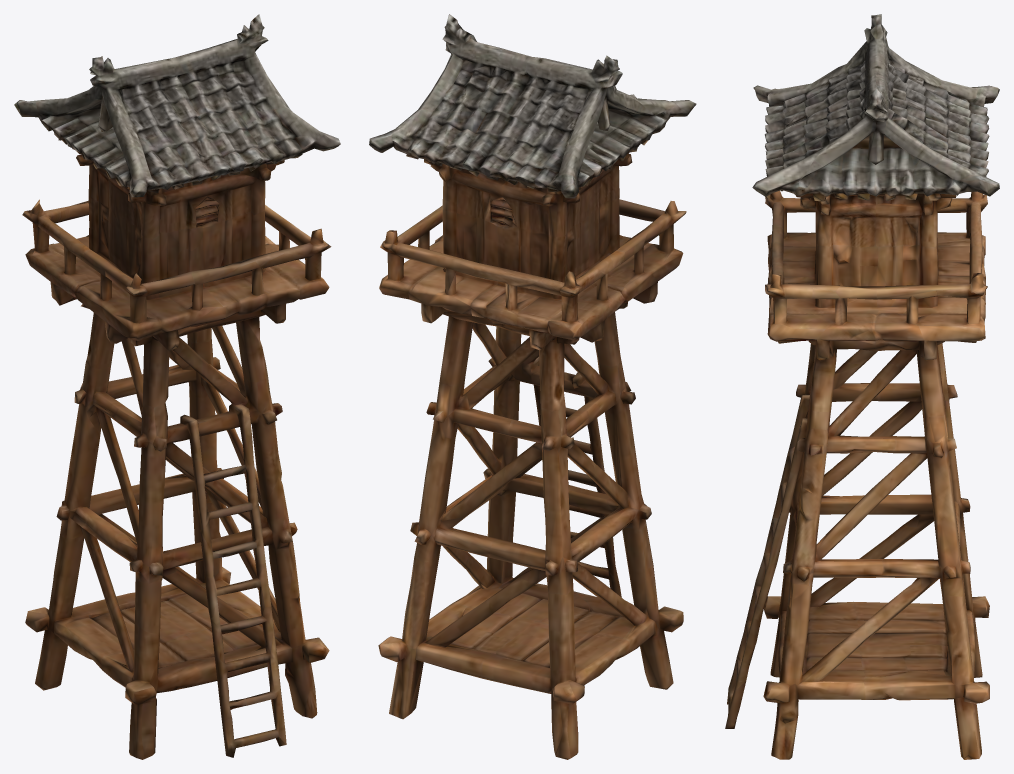
Rendered from watchtower-low.glb.
3 renders of one model, left to right at view 1: azimuth 30°, elevation 25°; view 2: azimuth 150°, elevation 25°; view 3: azimuth 270°, elevation 25°, orthographic.
Size of the model in its own units: 0.3245 by 0.9988 by 0.3727.
1 material, 1 textured.
